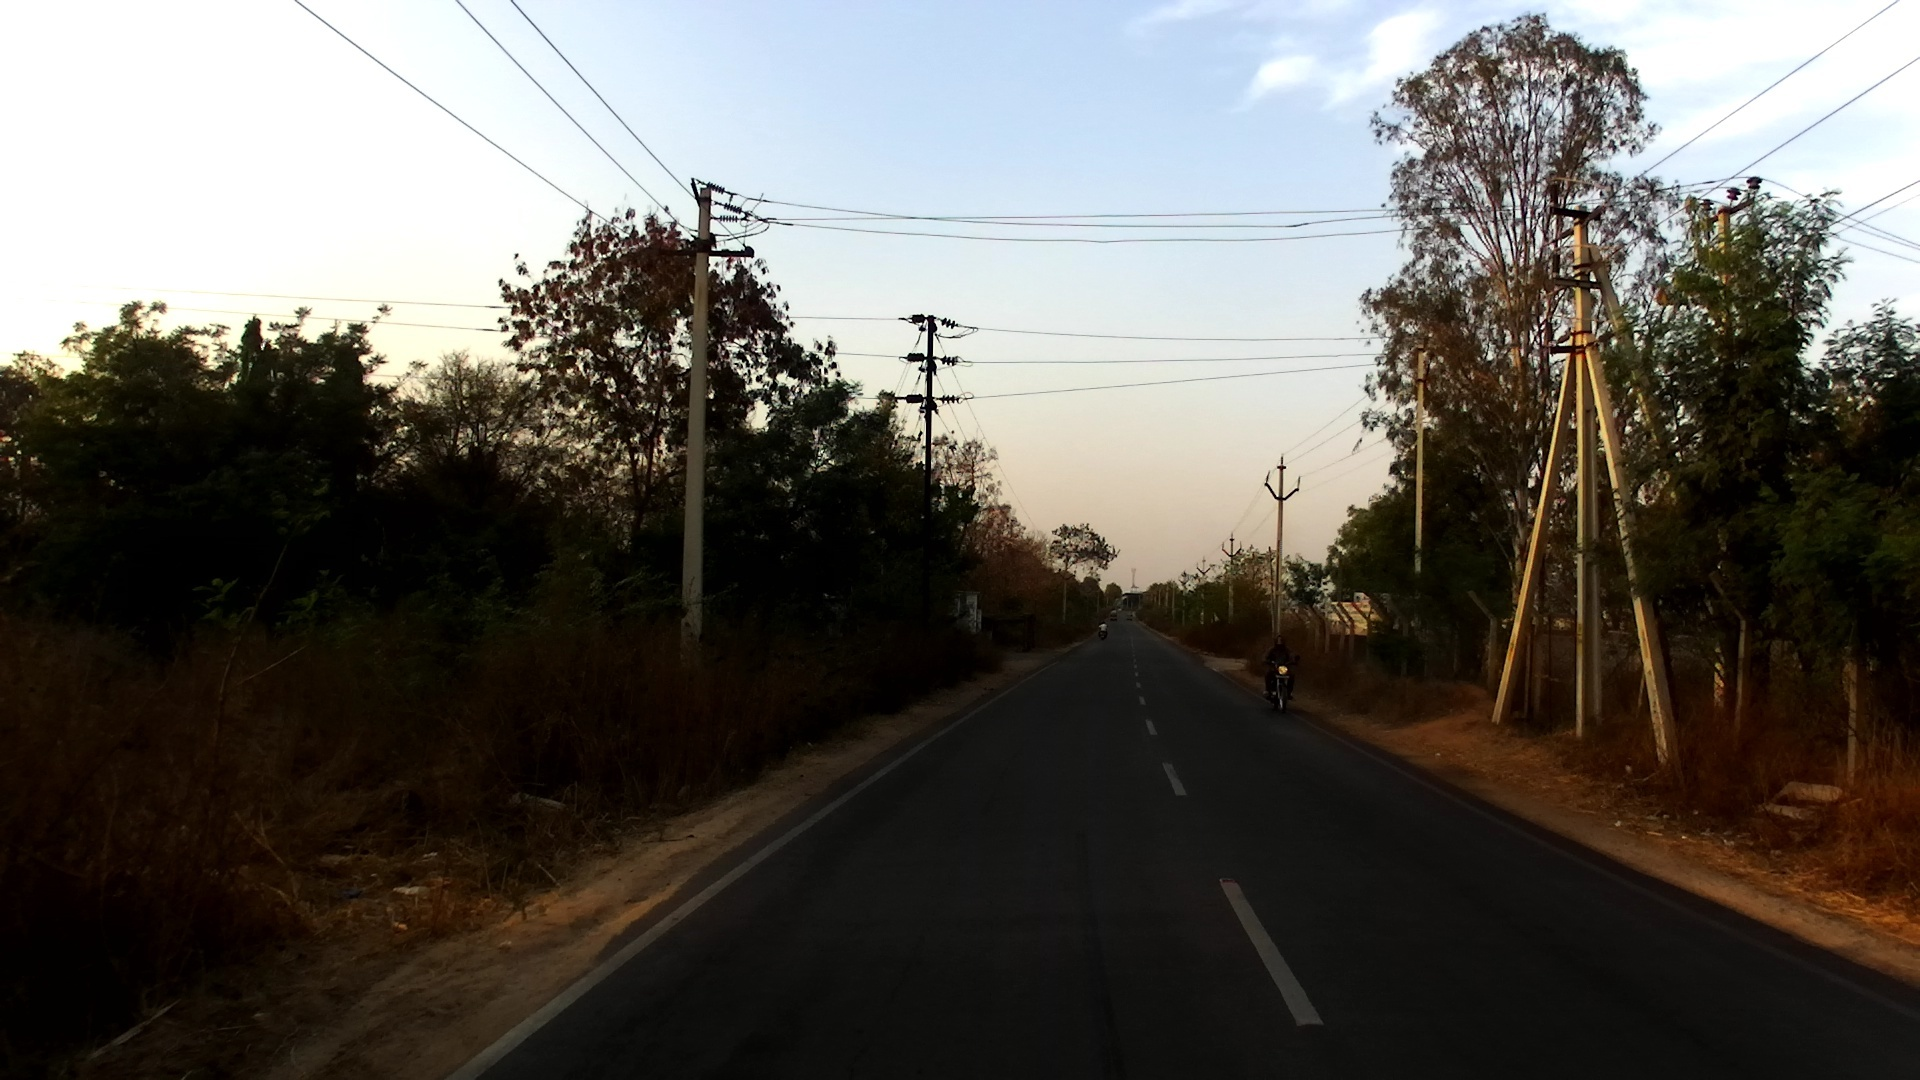car: (1109, 609, 1118, 624), (1124, 610, 1133, 620)
motorcycle: (1260, 657, 1300, 713), (1097, 624, 1108, 641)
rider: (1265, 633, 1297, 701), (1098, 620, 1109, 638)
